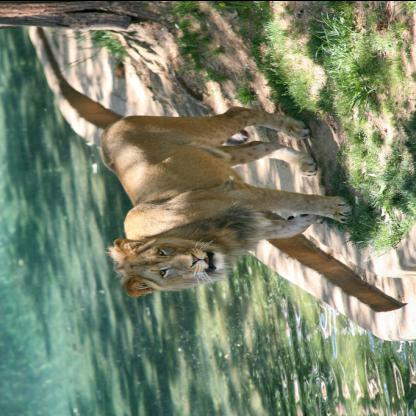lion: (112, 228, 235, 296)
